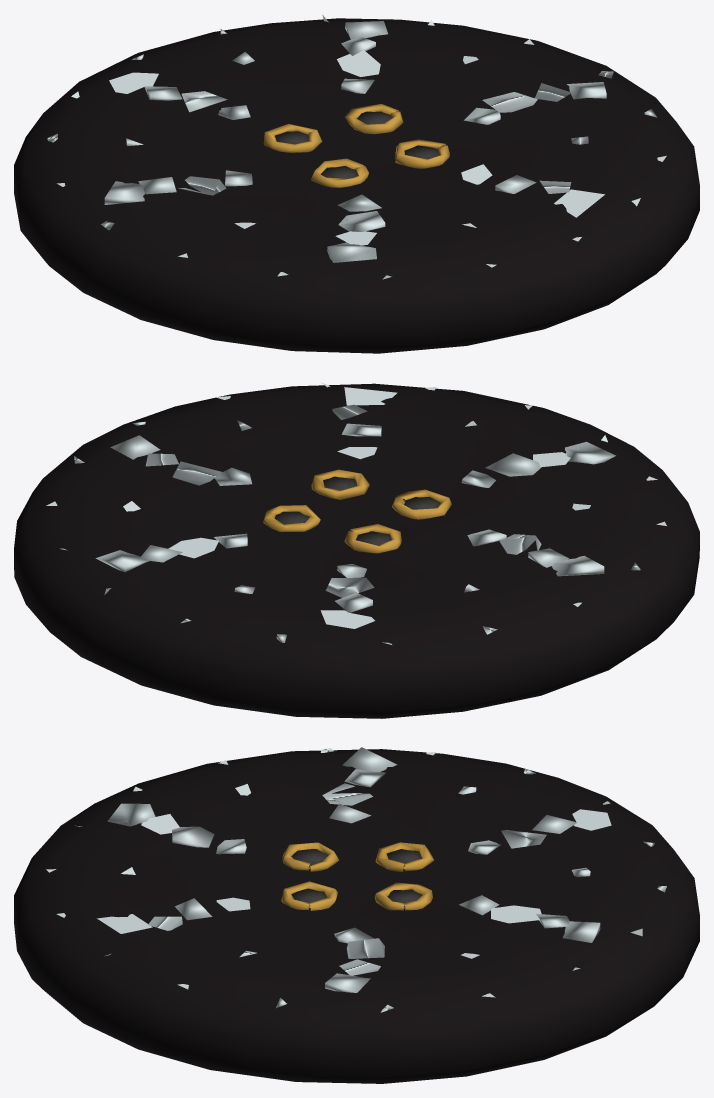
Rendered from snow_button_raden.glb.
3 views of the same model, one above another, from view 1: azimuth 30°, elevation 25°; view 2: azimuth 150°, elevation 25°; view 3: azimuth 270°, elevation 25° (orthographic).
Visible parts, largest first — view 1: prop_snow_button_raden_lacquer, prop_snow_button_raden_shell, prop_snow_button_raden_brass, prop_snow_button_raden_felt; view 2: prop_snow_button_raden_lacquer, prop_snow_button_raden_shell, prop_snow_button_raden_brass, prop_snow_button_raden_felt; view 3: prop_snow_button_raden_lacquer, prop_snow_button_raden_shell, prop_snow_button_raden_brass, prop_snow_button_raden_felt.
Part boxes in pixels (<box>): prop_snow_button_raden_lacquer: <box>14,18,699,353</box>; prop_snow_button_raden_shell: <box>47,15,666,279</box>; prop_snow_button_raden_brass: <box>263,104,449,187</box>; prop_snow_button_raden_felt: <box>275,111,440,178</box>; prop_snow_button_raden_lacquer: <box>14,383,699,718</box>; prop_snow_button_raden_shell: <box>46,382,666,644</box>; prop_snow_button_raden_brass: <box>263,469,451,553</box>; prop_snow_button_raden_felt: <box>275,476,440,545</box>; prop_snow_button_raden_lacquer: <box>14,749,699,1083</box>; prop_snow_button_raden_shell: <box>46,747,666,1012</box>; prop_snow_button_raden_brass: <box>281,842,433,910</box>; prop_snow_button_raden_felt: <box>291,849,422,907</box>.
Size of the model in its own units: 0.4601 by 0.0588 by 0.4601.
4 materials, 1 textured.
